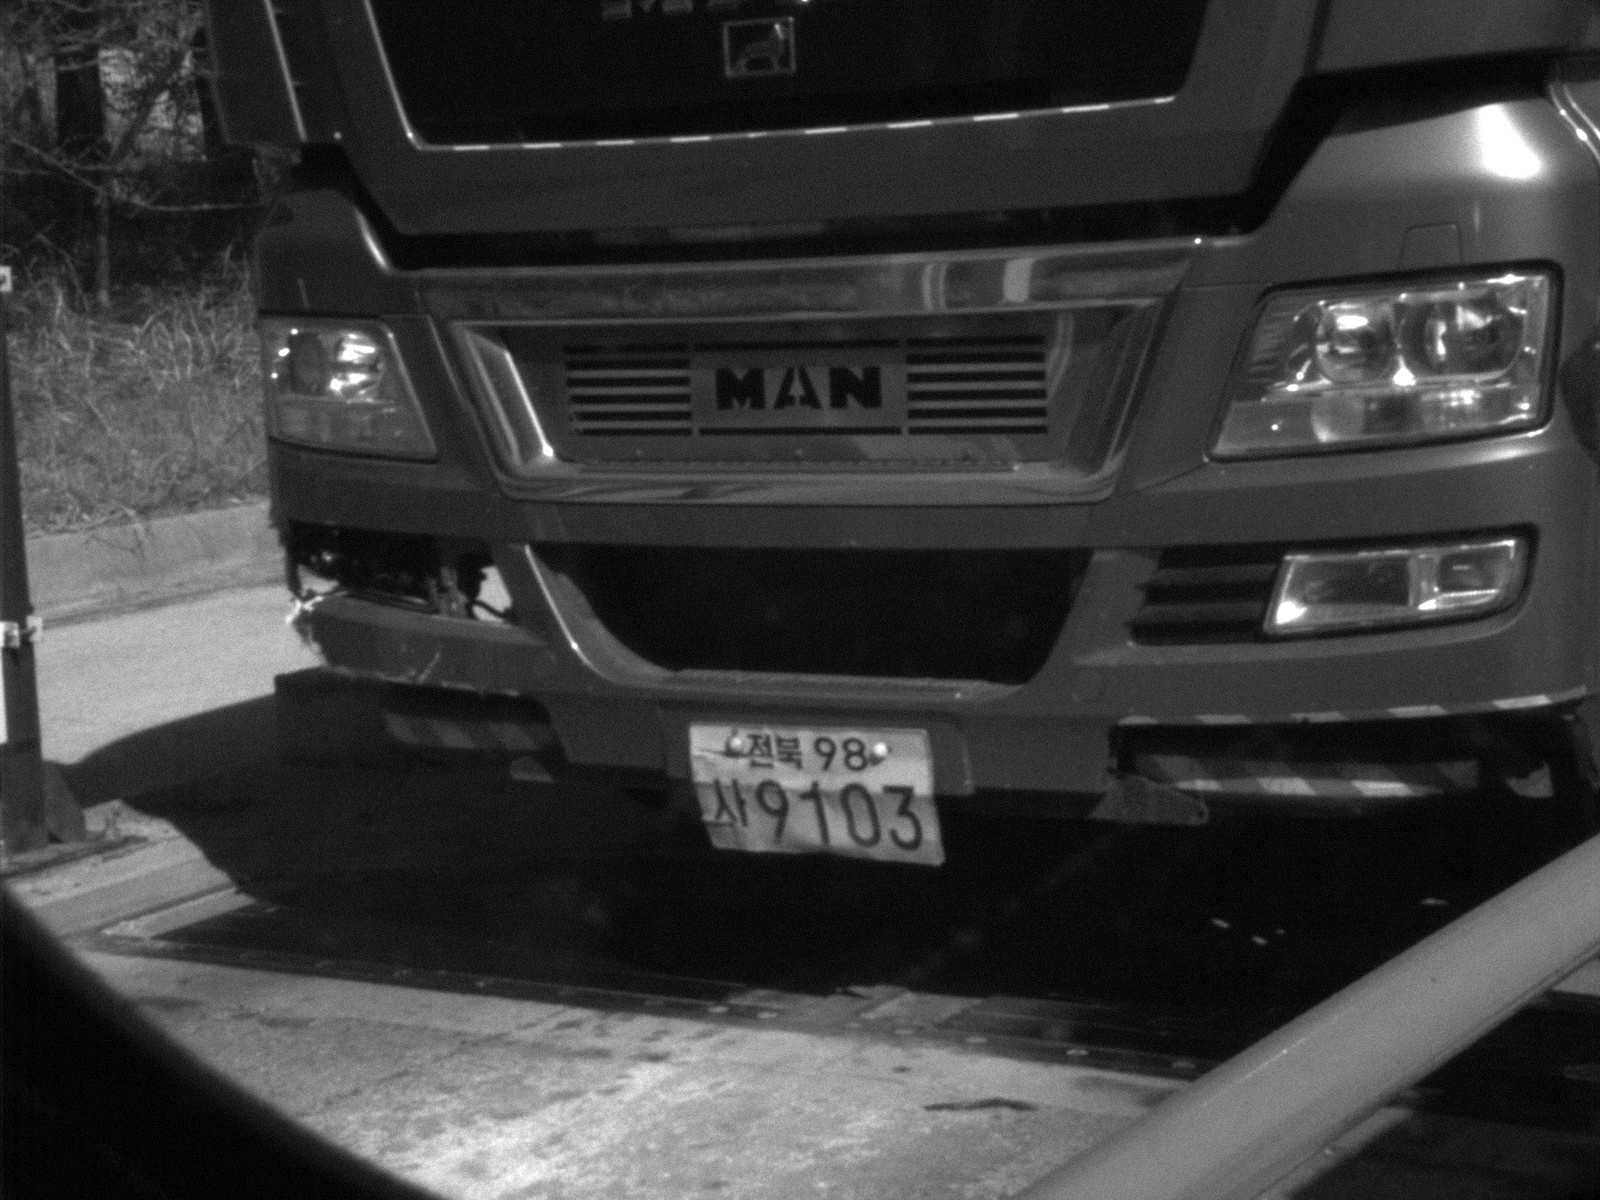car: (195, 1, 1599, 888)
plate: (682, 718, 953, 872)
